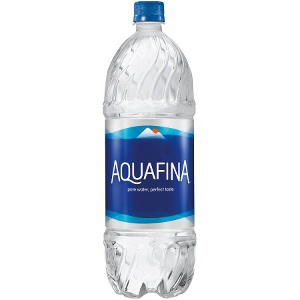emptybottle: (104, 2, 196, 297)
